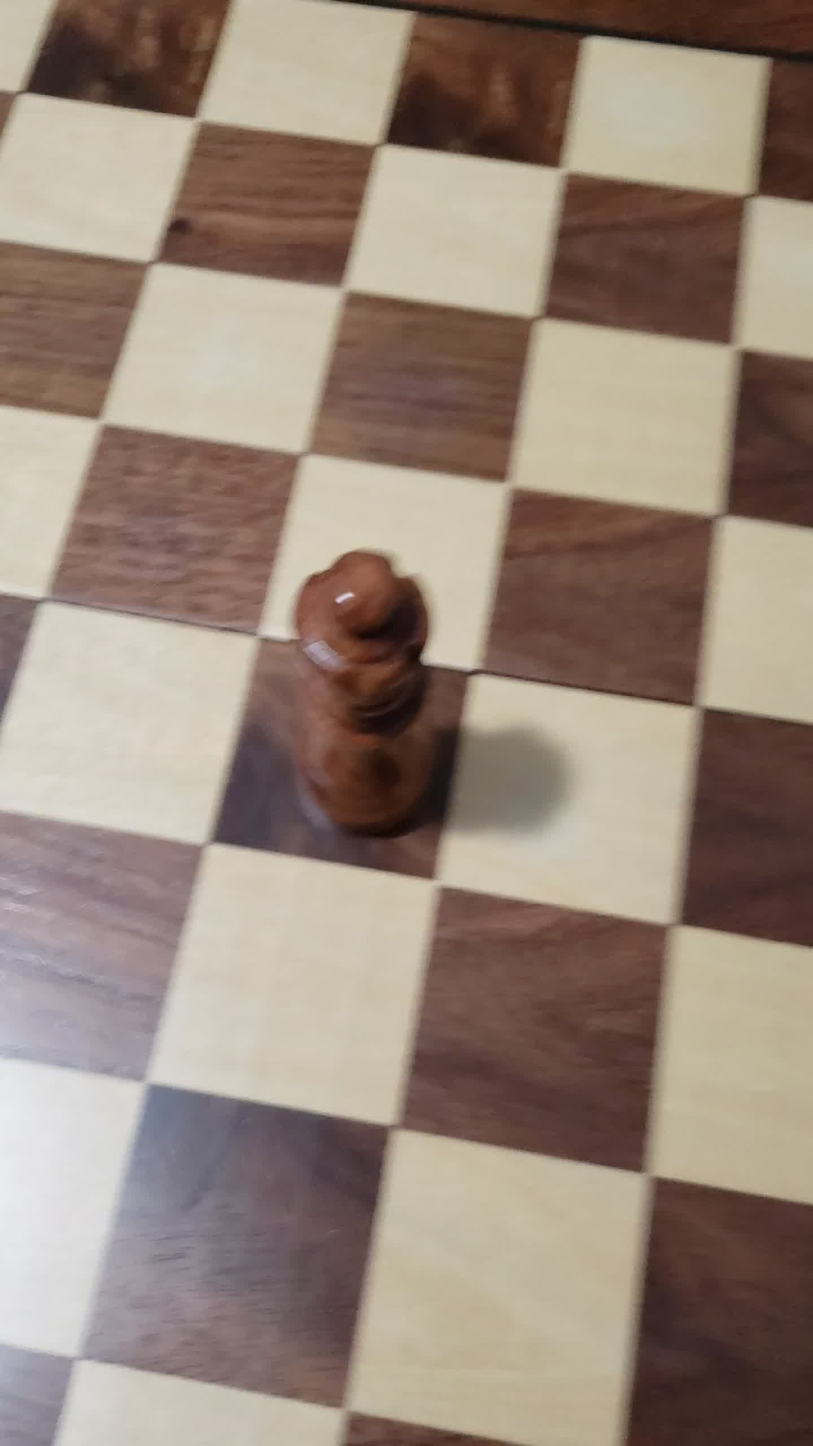black-queen: (231, 534, 487, 872)
